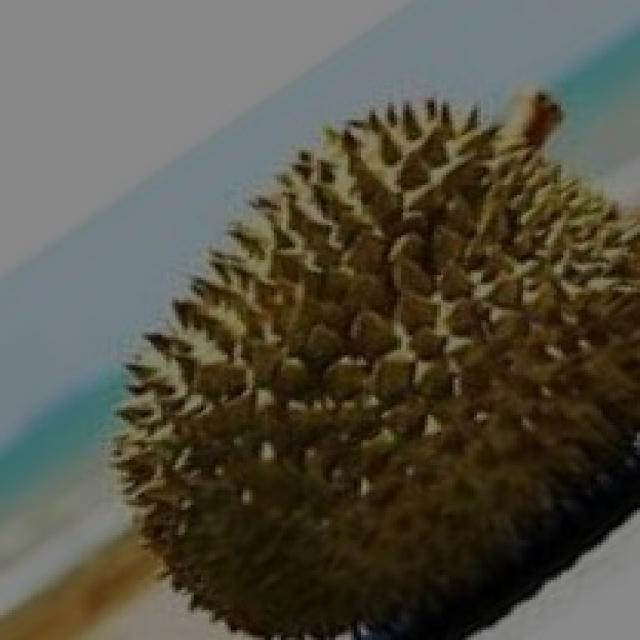fruit: (243, 80, 637, 562), (61, 275, 452, 640)
